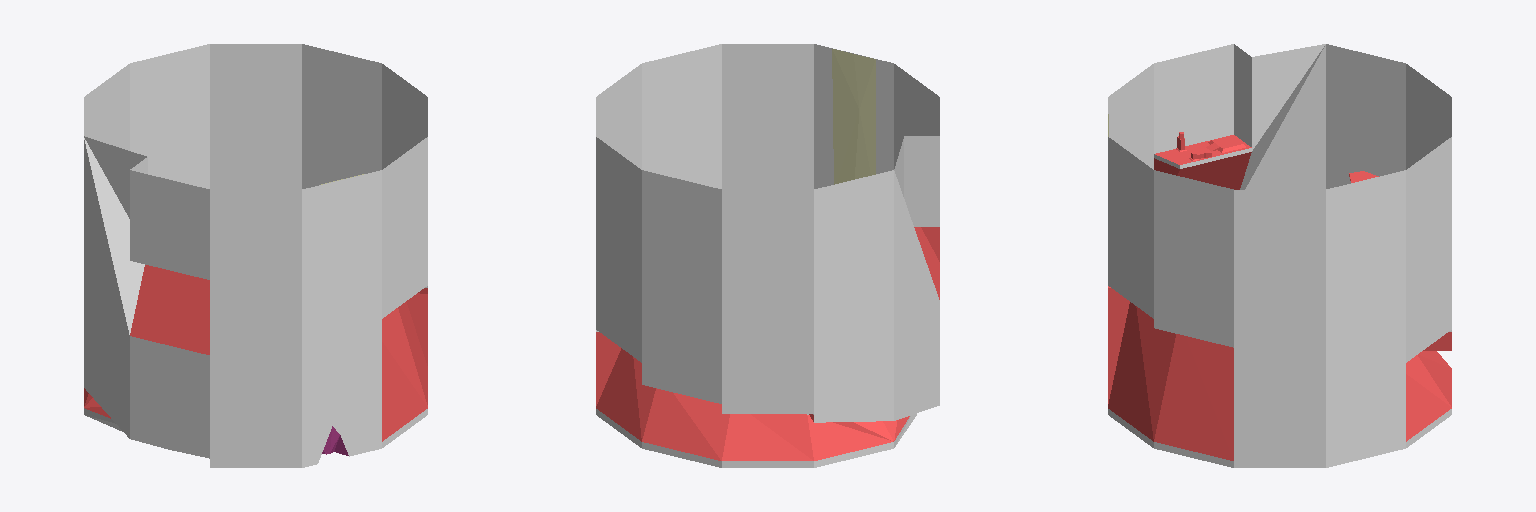
The model's file is Lethal Lava Land Area 2.obj.
3 views of the same model, side by side, from view 1: azimuth 30°, elevation 25°; view 2: azimuth 150°, elevation 25°; view 3: azimuth 270°, elevation 25° (orthographic).
Bounding box in the file's own units: 11770 × 10496 × 11770.